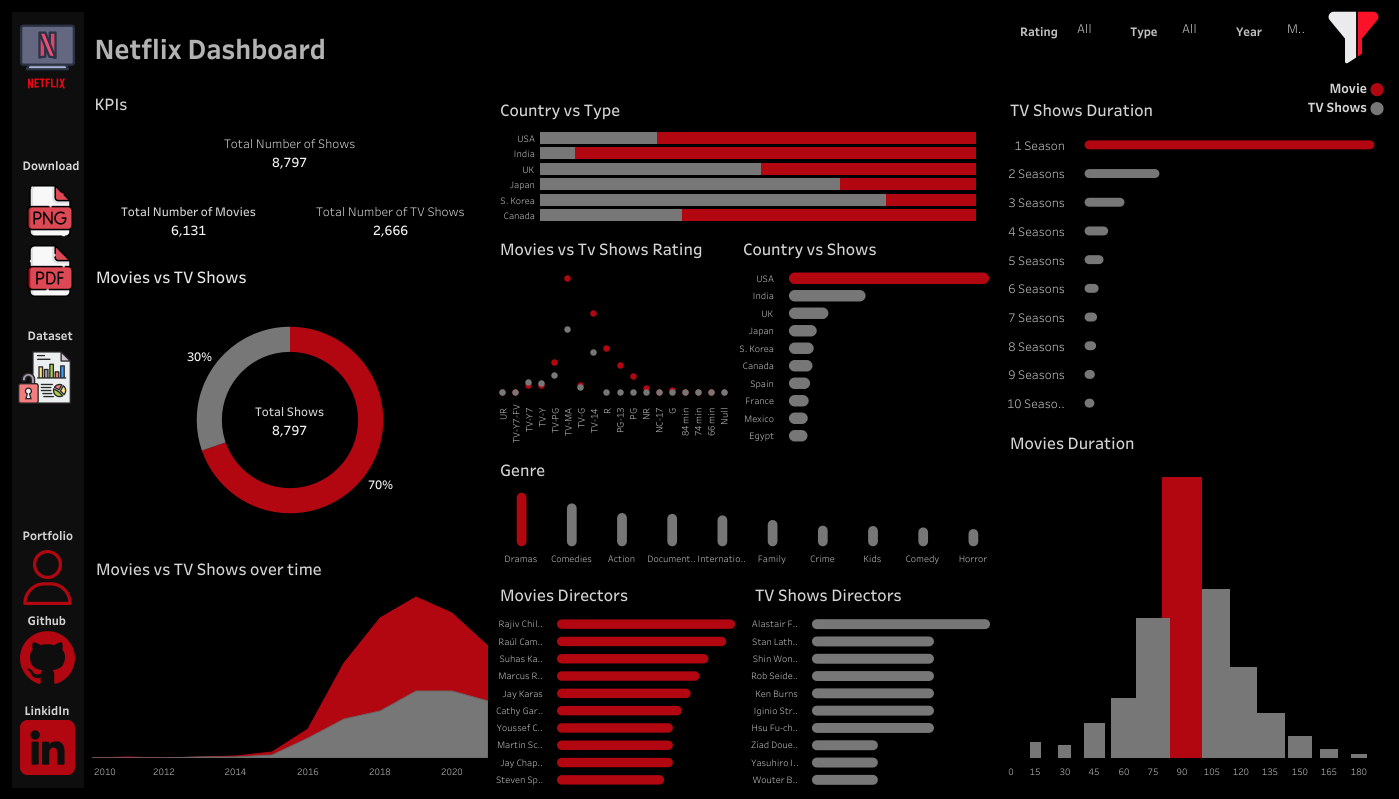

Layout of this report page (visuals, bound fields, positions):
{"tool":"tableau","page":{"name":"Netflix","canvas":[1400,800],"ordinal":0},"visuals":[{"type":"blank","box":[8,8,80,784]},{"type":"text","box":[88,8,1304,80]},{"type":"dashboard-object","box":[1317,10,73,55]},{"type":"filter","title":"Total TV Shows","param":"[federated.02bhv391m3lfz315jcnai1gzint5].[none:rating:nk]","box":[999,15,105,32]},{"type":"filter","title":"Total TV Shows","param":"[federated.02bhv391m3lfz315jcnai1gzint5].[none:type:nk]","box":[1104,15,105,32]},{"type":"filter","title":"Total TV Shows","param":"[federated.02bhv391m3lfz315jcnai1gzint5].[yr:date_added:ok]","box":[1209,15,105,32]},{"type":"image","param":"Image/netflix (3).png","box":[10,20,75,55]},{"type":"image","param":"Image/netflix (1).png","box":[3,65,87,37]},{"type":"text","box":[1253,68,134,57]},{"type":"text","box":[88,88,404,30]},{"type":"worksheet","title":"Country vs Type","mark":"Bar","rows":["country"],"box":[492,88,510,139]},{"type":"worksheet","title":"TV Shows Duration","mark":"Line","rows":["duration"],"box":[1002,88,390,333]},{"type":"worksheet","title":"Total Shows","mark":"Automatic","box":[88,118,404,68.5]},{"type":"text","box":[20,150,60,30]},{"type":"dashboard-object","box":[20,185,60,52]},{"type":"worksheet","title":"Total Movies","mark":"Automatic","box":[88,186.5,202,68.5]},{"type":"worksheet","title":"Total TV Shows","mark":"Automatic","box":[290,186.5,202,68.5]},{"type":"worksheet","title":"Movies vs Tv Shows Rating","mark":"Circle","rows":["Calculation_486951734804647936","Calculation_486951734805110785"],"cols":["rating"],"box":[492,227,243,221]},{"type":"worksheet","title":"Country vs Shows","mark":"Line","rows":["country"],"box":[735,227,267,221]},{"type":"dashboard-object","box":[20,245,60,52]},{"type":"worksheet","title":"Movies vs TV Shows","mark":"Pie","cols":["Calculation_486951734805487619","Calculation_486951734805504005"],"box":[88,255,404,292]},{"type":"text","box":[25,320,60,30]},{"type":"image","param":"Image/public-data.png","box":[15,350,60,55]},{"type":"worksheet","title":"Movies Duration","mark":"Automatic","rows":["show_id"],"cols":["Movie's Duration (bin)"],"box":[1002,421,390,371]},{"type":"worksheet","title":"Shows Genre","mark":"Line","cols":["Calculation_486951734813999129"],"box":[492,448,510,125]},{"type":"text","box":[20,520,60,30]},{"type":"worksheet","title":"Movies vs TV Shows over time","mark":"Area","rows":["Calculation_486951734804647936","Calculation_486951734805110785"],"cols":["date_added"],"box":[88,547,404,245]},{"type":"image","param":"Image/user (1).png","box":[10,550,75,55]},{"type":"worksheet","title":"Movies Directors","mark":"Line","rows":["director"],"box":[492,573,255,219]},{"type":"worksheet","title":"TV Shows Directors","mark":"Line","rows":["director"],"box":[747,573,255,219]},{"type":"text","box":[25,605,60,30]},{"type":"image","param":"Image/github (3).png","box":[10,630,75,55]},{"type":"text","box":[22,695,60,30]},{"type":"image","param":"Image/linkedin (4).png","box":[10,720,75,55]}]}

Visuals, with their boxes in screenshot pixels (x1, y1, x2, y2), scaled from the page's 1400x800 canvas onto the 1399x799 screenshot:
blank: 8/8/88/791
text: 88/8/1391/88
dashboard-object: 1316/10/1389/65
"Total TV Shows" filter: 998/15/1103/47
"Total TV Shows" filter: 1103/15/1208/47
"Total TV Shows" filter: 1208/15/1313/47
image: 10/20/85/75
image: 3/65/90/102
text: 1252/68/1386/125
text: 88/88/492/118
"Country vs Type" worksheet (Bar marks): 492/88/1001/227
"TV Shows Duration" worksheet (Line marks): 1001/88/1391/420
"Total Shows" worksheet: 88/118/492/186
text: 20/150/80/180
dashboard-object: 20/185/80/237
"Total Movies" worksheet: 88/186/290/255
"Total TV Shows" worksheet: 290/186/492/255
"Movies vs Tv Shows Rating" worksheet (Circle marks): 492/227/734/447
"Country vs Shows" worksheet (Line marks): 734/227/1001/447
dashboard-object: 20/245/80/297
"Movies vs TV Shows" worksheet (Pie marks): 88/255/492/546
text: 25/320/85/350
image: 15/350/75/404
"Movies Duration" worksheet: 1001/420/1391/791
"Shows Genre" worksheet (Line marks): 492/447/1001/572
text: 20/519/80/549
"Movies vs TV Shows over time" worksheet (Area marks): 88/546/492/791
image: 10/549/85/604
"Movies Directors" worksheet (Line marks): 492/572/746/791
"TV Shows Directors" worksheet (Line marks): 746/572/1001/791
text: 25/604/85/634
image: 10/629/85/684
text: 22/694/82/724
image: 10/719/85/774
